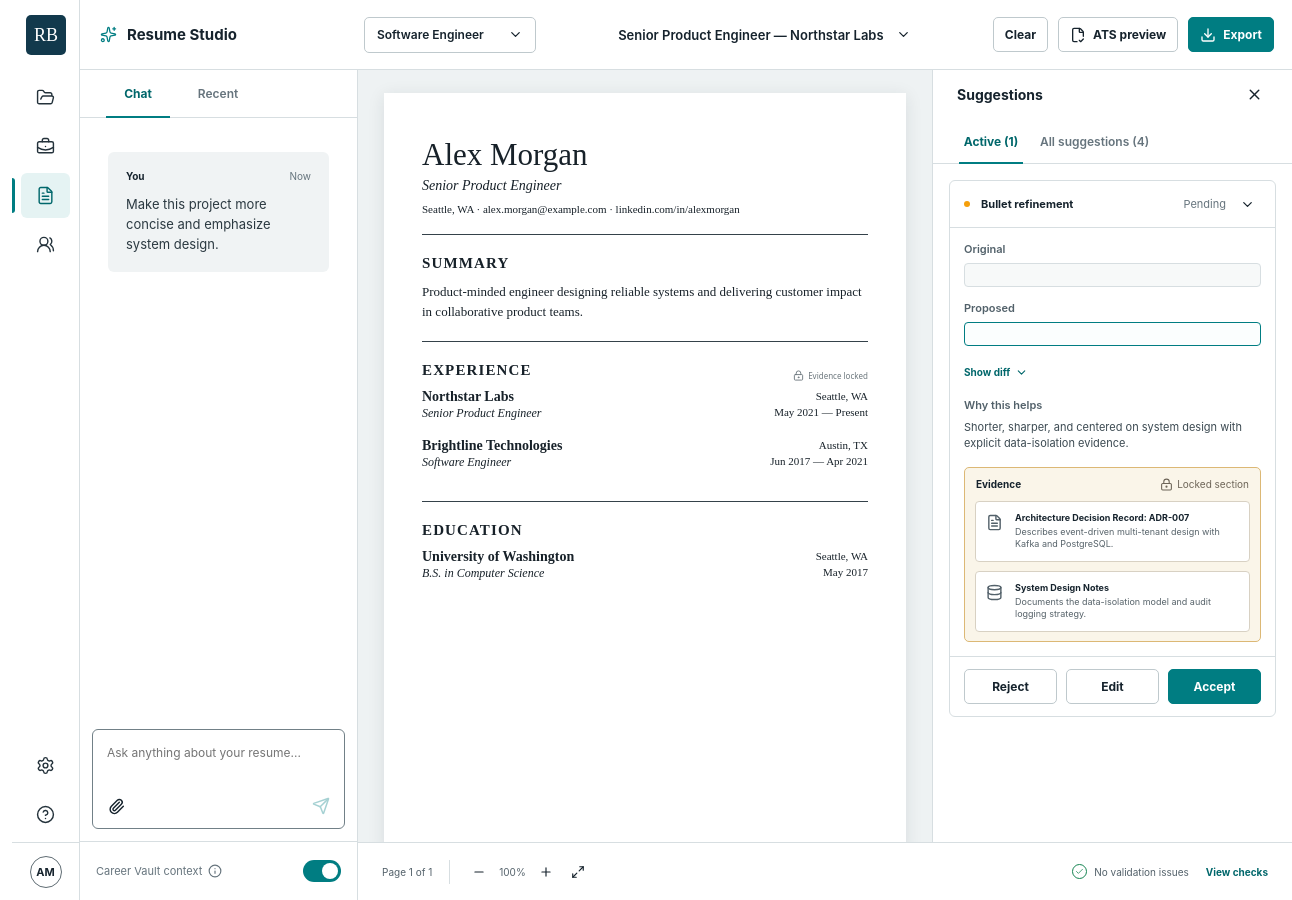
Career Vault management flow › never renders the raw provider key after connecting
Click the button named "Connections": (46, 244) [21,222,70,267]
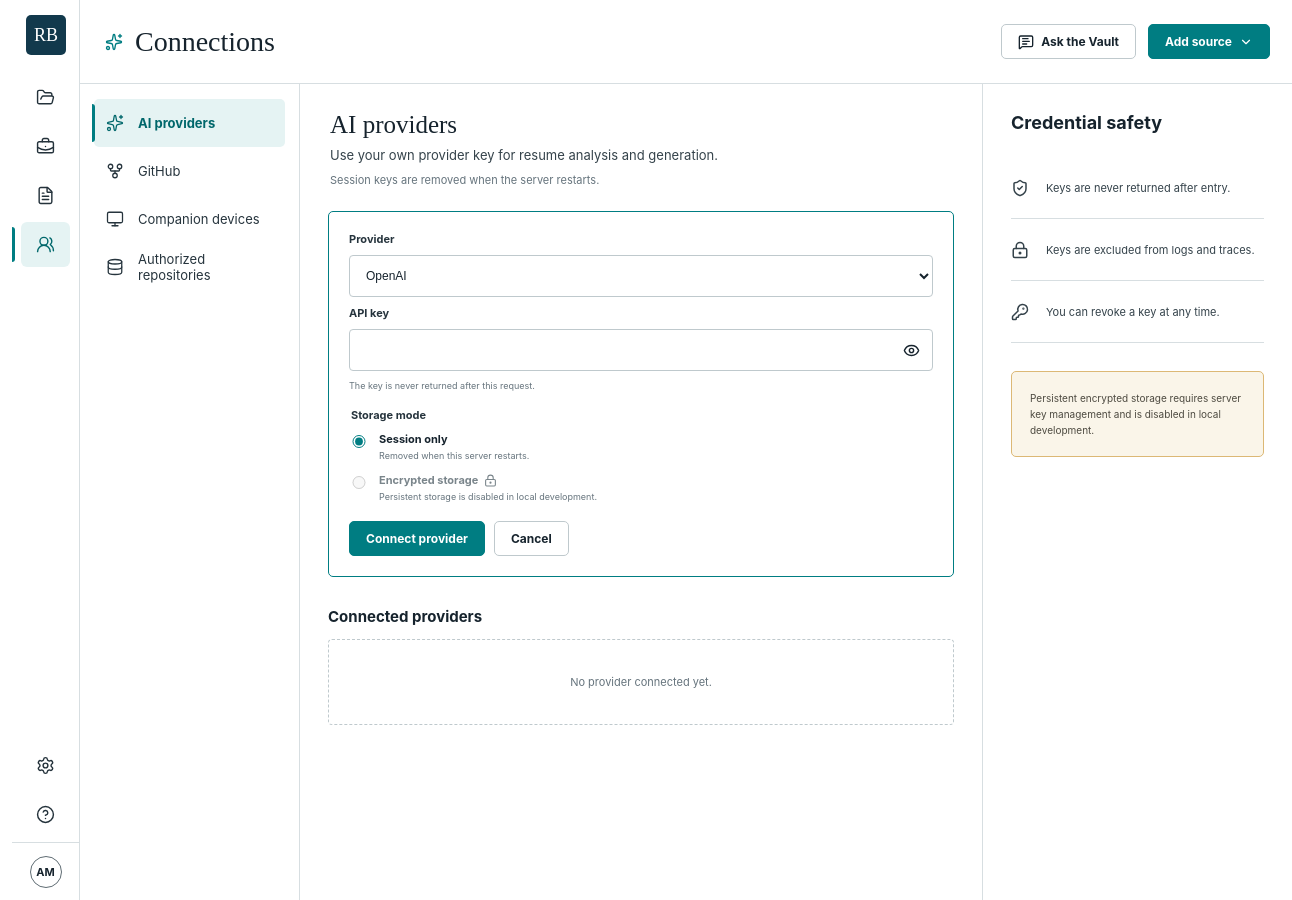
Result: the text "No provider connected yet." is shown at [328,639,954,725]
In the password field labelled "API key": (641, 350) [349,329,933,371], type "local-test-credential-value"
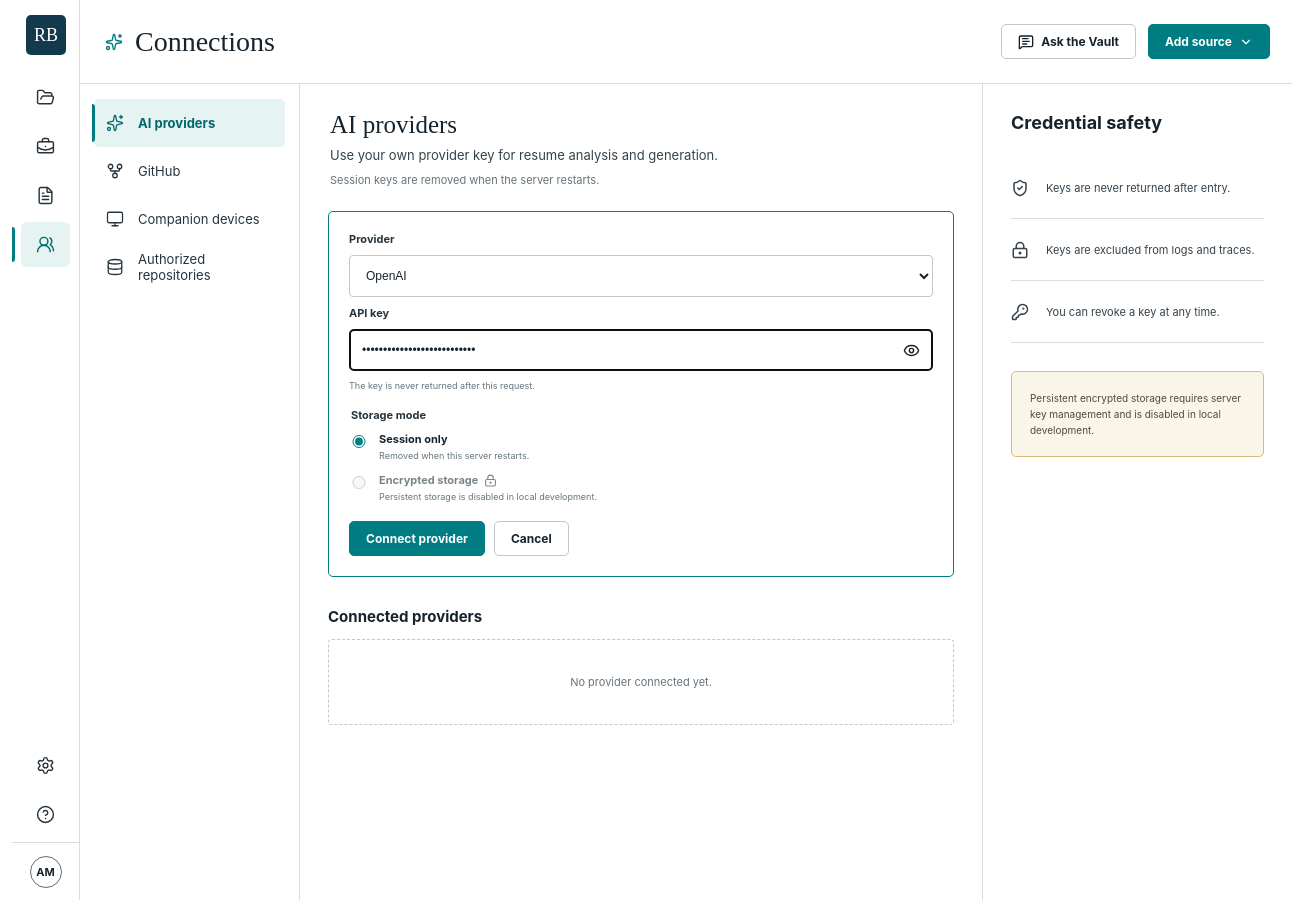
Click the button "Connect provider": (417, 538) [349,521,485,556]
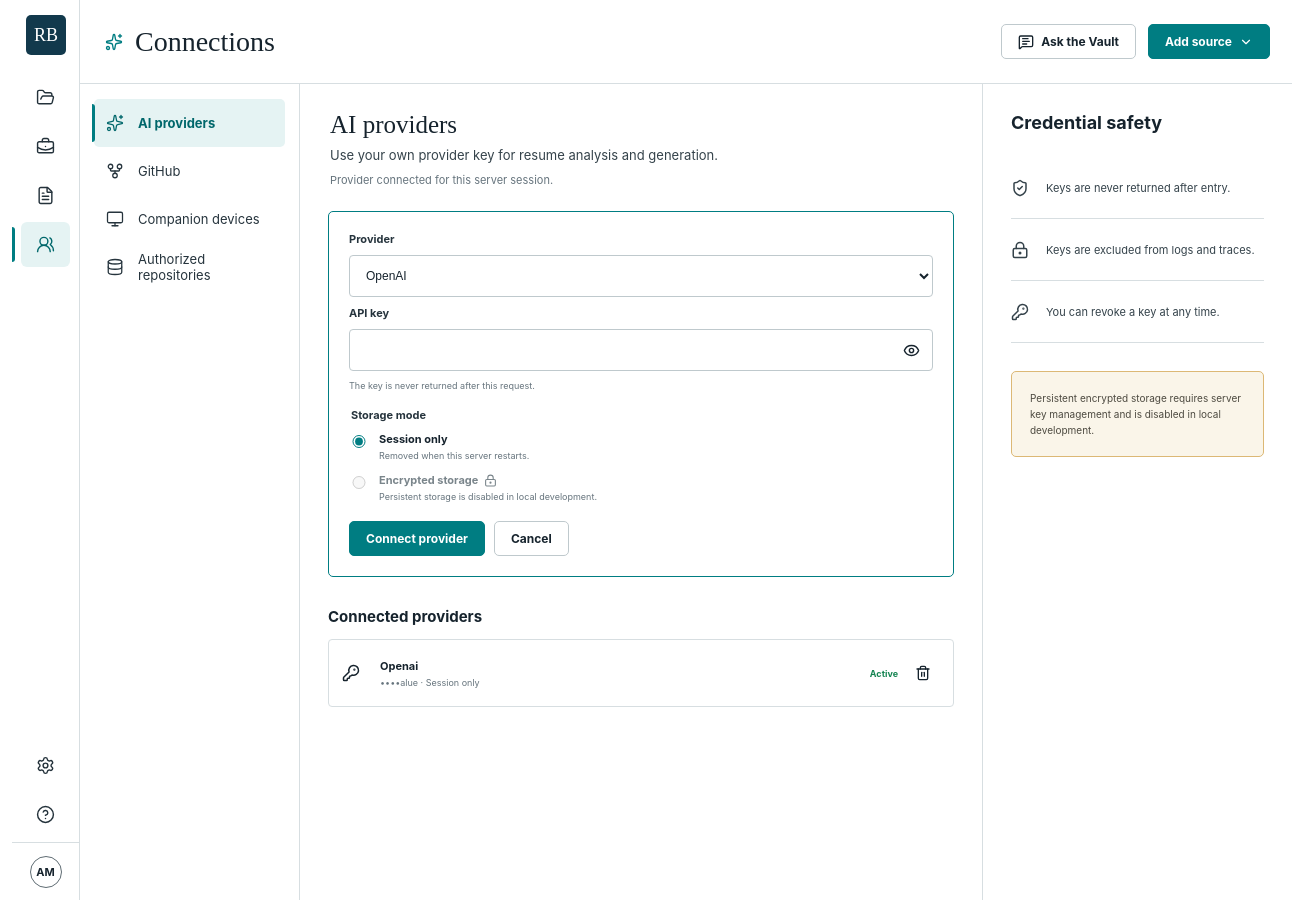
Result: the text "••••alue · Session only" is shown at [380,676,480,688]
Result: the password field labelled "API key" is empty at [349,329,933,371]
